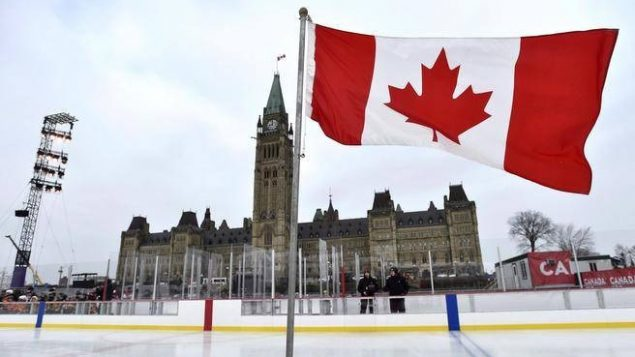Canada flag: (308, 19, 619, 195)
